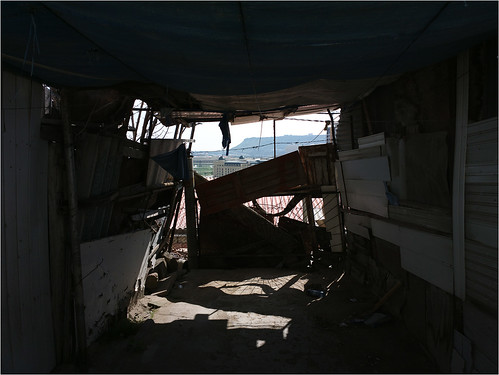trash: (2, 21, 433, 354)
